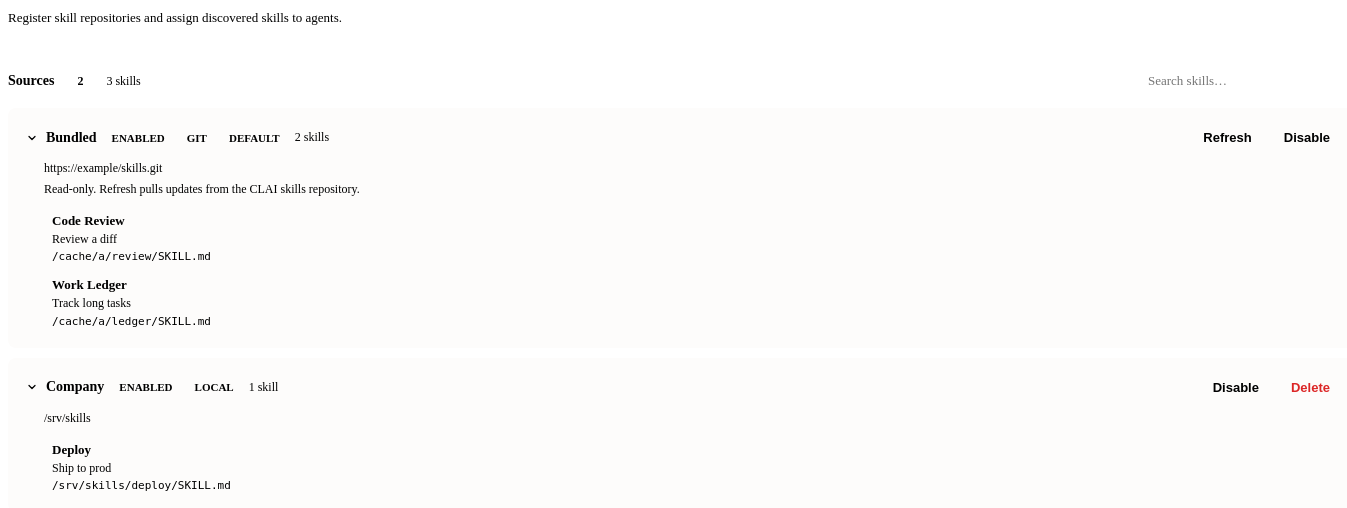
Test case: SkillsSettings › collapses a source
The width and height of the screenshot is (1347, 508).
Expected: the text "Bundled" is shown, [46, 130, 97, 146]
Step 1. Click the button "Bundled Enabled git Default 2 skills" → (71, 137), box [24, 128, 1179, 148]
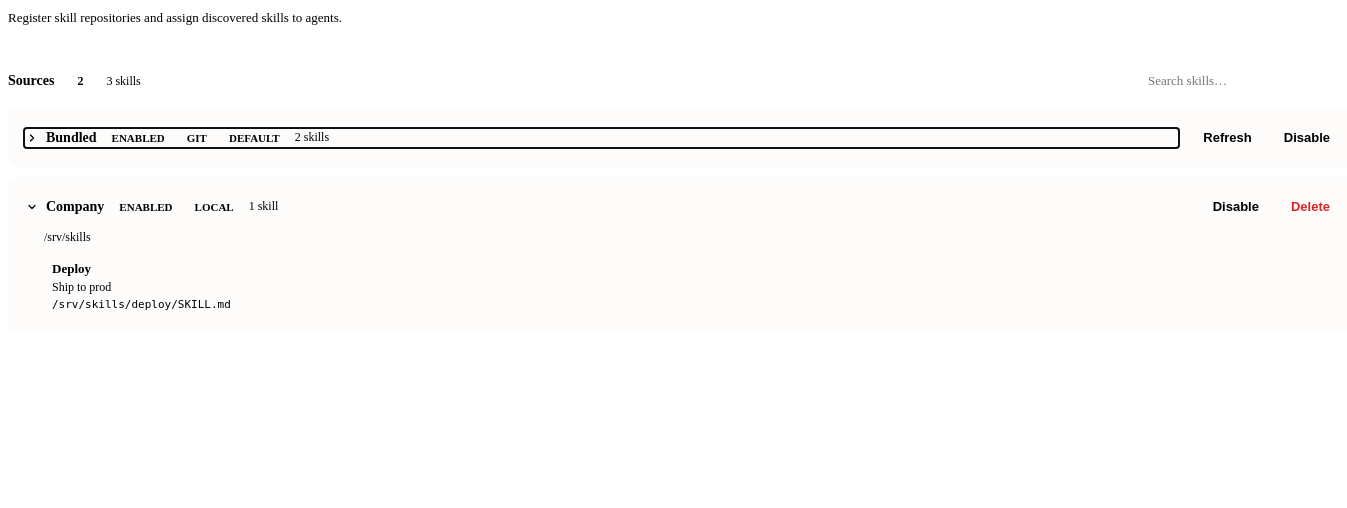
Expected: the text "Deploy" is shown, [52, 261, 91, 276]
Expected: the text "Code Review" is gone
